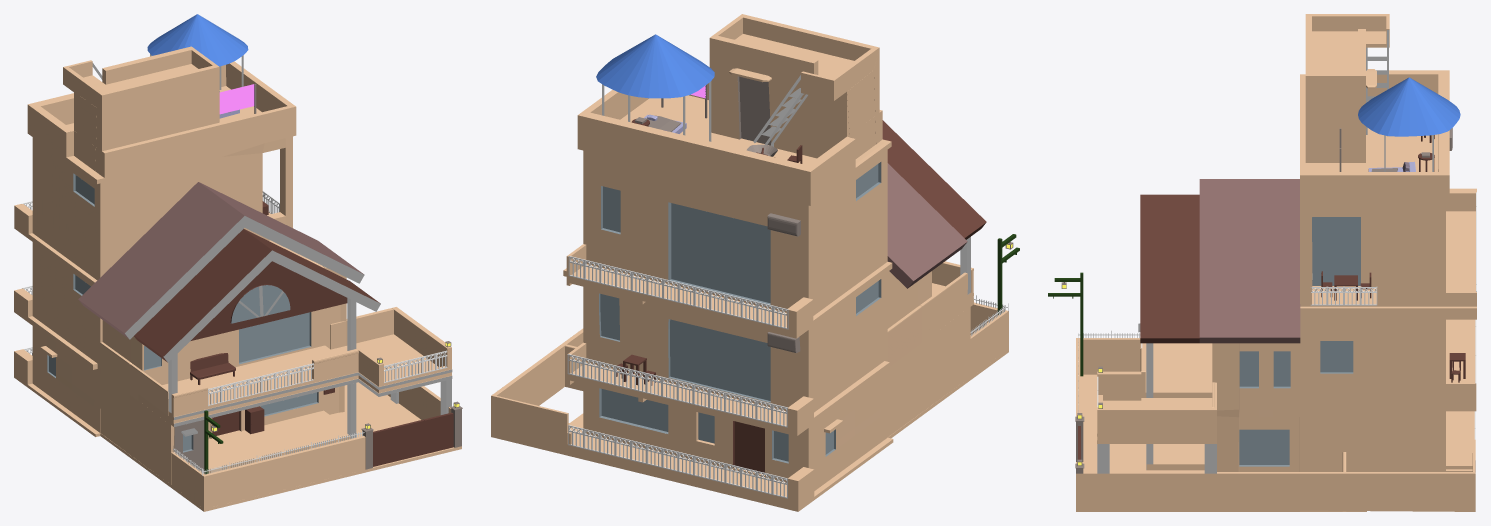
File: house.gltf
3 renders of one model, left to right at view 1: azimuth 30°, elevation 25°; view 2: azimuth 150°, elevation 25°; view 3: azimuth 270°, elevation 25°, orthographic. The views are drawn at different scales.
Visible parts, largest first — view 1: mainHouseRearBox, mainHouseBoxFront, roofShingle2, baseBasement, roofShingle1, frontMainLowerWall, roofShingle2Border, roofHutLegs, GRAND ESCAPE WINDOW, roofShingle1Border, mainHouseOuterTopBoundryWhite, gateLeft (+12 smaller); view 2: mainHouseRearBox, baseBasement, mainHouseBoxFront, momRoomBedroomOutlet, roomInDoonBedroomOutlet, roofShingle2, roofHutLegs, roofShingle1, roomInDoonRailing, momRoomRailing, kitchenRailing, kitchenWindow (+8 smaller); view 3: mainHouseRearBox, baseBasement, mainHouseBoxFront, roofShingle2, roofShingle1, roofHutLegs, 4throombalconywindow, sideLowerWall, DRAWING ROOM WINDOW 2.001, GRAND ESCAPE SIDE WINDOW.002, roomInDoonBathroomWindow, telescope railing (+3 smaller).
Boxes of the visible parts, x1=… form: mainHouseRearBox: x1=14, y1=46, x2=296, y2=432; mainHouseBoxFront: x1=100, y1=240, x2=451, y2=484; roofShingle2: x1=78, y1=182, x2=363, y2=339; baseBasement: x1=14, y1=349, x2=461, y2=511; roofShingle1: x1=134, y1=229, x2=380, y2=362; frontMainLowerWall: x1=202, y1=435, x2=365, y2=508; roofShingle2Border: x1=125, y1=216, x2=364, y2=339; roofHutLegs: x1=147, y1=14, x2=248, y2=66; GRAND ESCAPE WINDOW: x1=239, y1=312, x2=311, y2=364; roofShingle1Border: x1=163, y1=250, x2=380, y2=362; mainHouseOuterTopBoundryWhite: x1=174, y1=369, x2=452, y2=426; gateLeft: x1=373, y1=419, x2=424, y2=466; mainHouseRearBox: x1=563, y1=14, x2=892, y2=490; baseBasement: x1=491, y1=328, x2=1008, y2=511; mainHouseBoxFront: x1=887, y1=261, x2=973, y2=436; momRoomBedroomOutlet: x1=668, y1=202, x2=770, y2=304; roomInDoonBedroomOutlet: x1=668, y1=319, x2=770, y2=402; roofShingle2: x1=887, y1=163, x2=967, y2=288; roofHutLegs: x1=596, y1=34, x2=714, y2=98; roofShingle1: x1=882, y1=120, x2=986, y2=239; roomInDoonRailing: x1=567, y1=354, x2=787, y2=427; momRoomRailing: x1=568, y1=256, x2=788, y2=329; kitchenRailing: x1=568, y1=425, x2=787, y2=498; kitchenWindow: x1=599, y1=388, x2=668, y2=433; mainHouseRearBox: x1=1300, y1=14, x2=1476, y2=471; baseBasement: x1=1076, y1=374, x2=1475, y2=511; mainHouseBoxFront: x1=1097, y1=343, x2=1300, y2=471; roofShingle2: x1=1199, y1=179, x2=1300, y2=343; roofShingle1: x1=1140, y1=194, x2=1199, y2=343; roofHutLegs: x1=1358, y1=77, x2=1460, y2=136; 4throombalconywindow: x1=1312, y1=217, x2=1360, y2=285; sideLowerWall: x1=1077, y1=338, x2=1140, y2=374; DRAWING ROOM WINDOW 2.001: x1=1239, y1=429, x2=1289, y2=466; GRAND ESCAPE SIDE WINDOW.002: x1=1239, y1=351, x2=1290, y2=388; roomInDoonBathroomWindow: x1=1320, y1=341, x2=1353, y2=373; telescope railing: x1=1310, y1=286, x2=1377, y2=305.
Bounding box in the file's own units: 17.41 × 20.79 × 21.35.
